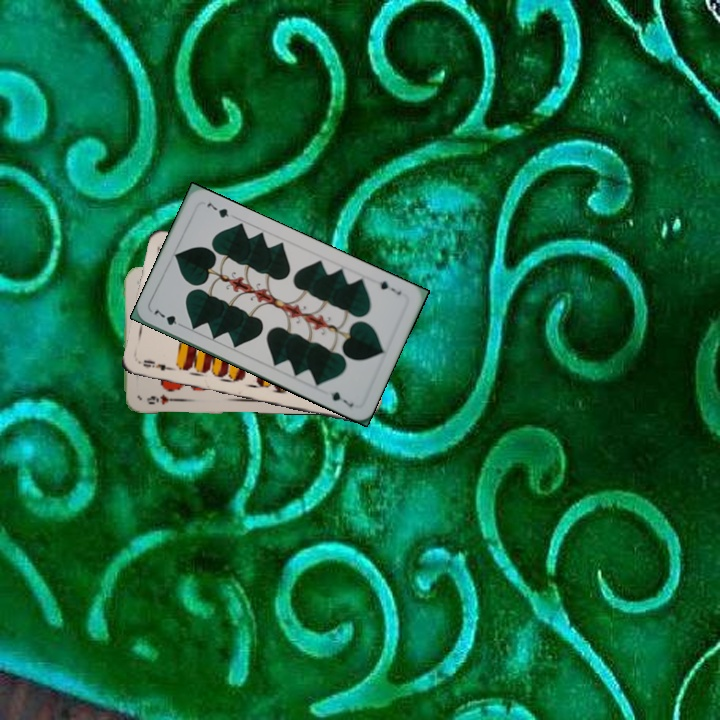E9: (136, 356, 177, 373)
G7: (149, 305, 187, 330), (375, 277, 404, 297)
H9: (143, 390, 178, 407)
